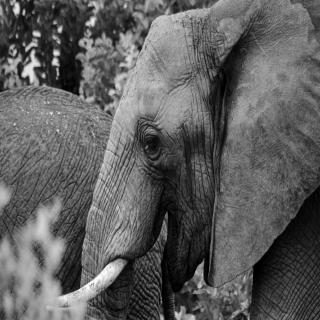Elephant: (82, 0, 320, 320)
